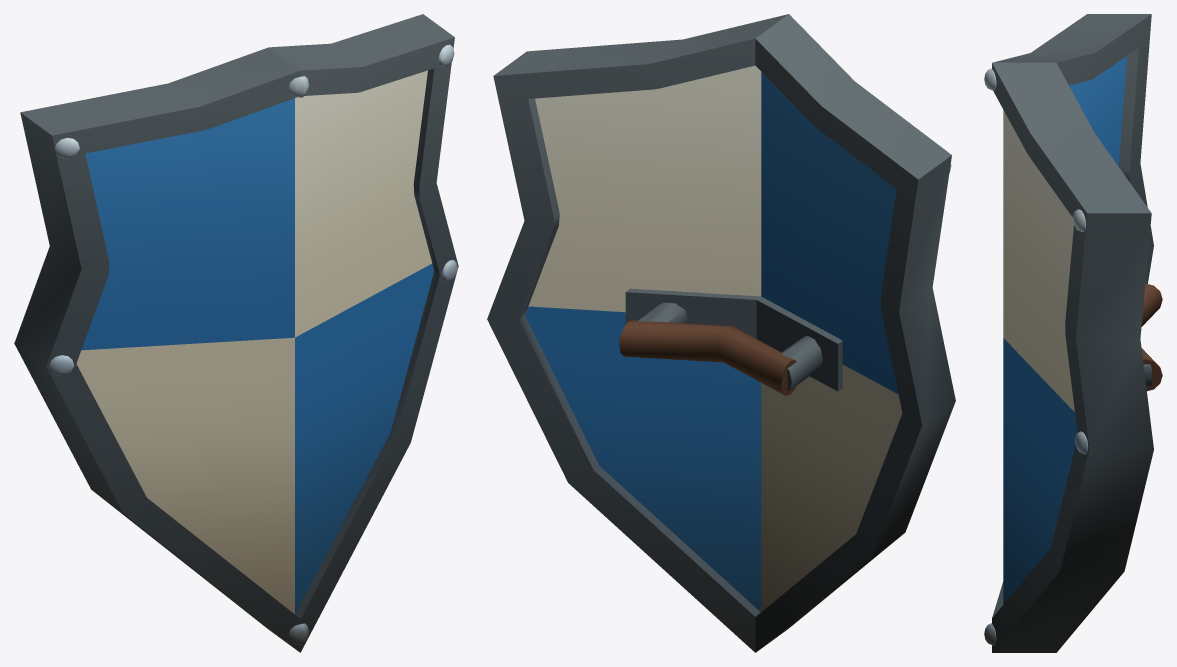
The model's file is shield_heroic_quarters.glb.
The picture shows the model from 3 angles, left to right: view 1: azimuth 30°, elevation 25°; view 2: azimuth 150°, elevation 25°; view 3: azimuth 270°, elevation 25°; orthographic projection. The views are drawn at different scales.
Parts seen in each view (by area): view 1: Item; view 2: Item; view 3: Item.
Boxes of the visible parts, x1=… form: Item: x1=14, y1=14, x2=458, y2=652; Item: x1=487, y1=14, x2=955, y2=652; Item: x1=984, y1=14, x2=1162, y2=652.
Size of the model in its own units: 0.86 by 1.16 by 0.3178.
3 materials, 3 textured.
